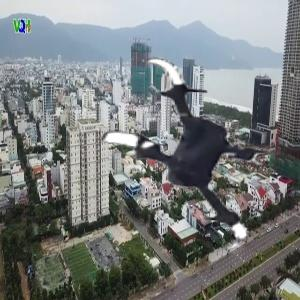drone: (73, 50, 286, 263)
